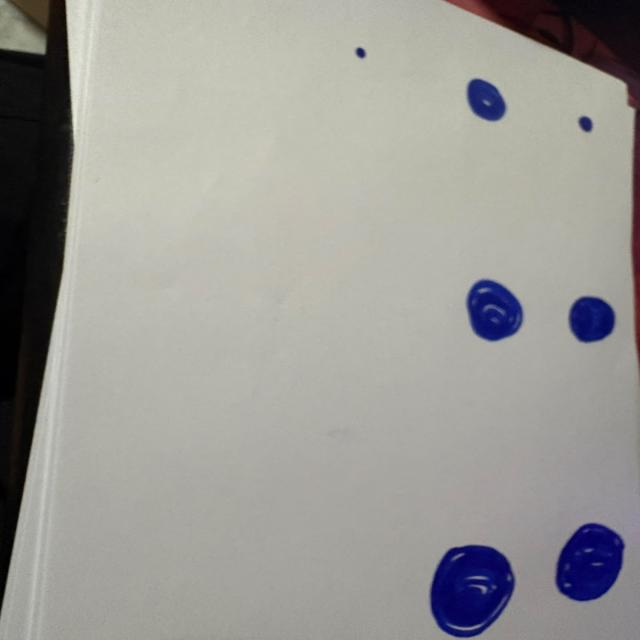Circle: (426, 543, 520, 640), (552, 520, 627, 603), (463, 274, 526, 344), (566, 293, 616, 345), (465, 78, 510, 124), (578, 114, 596, 134), (352, 44, 371, 60)
